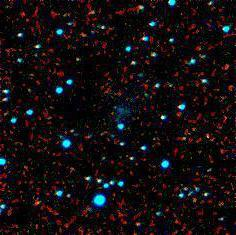star: (182, 185, 212, 215)
